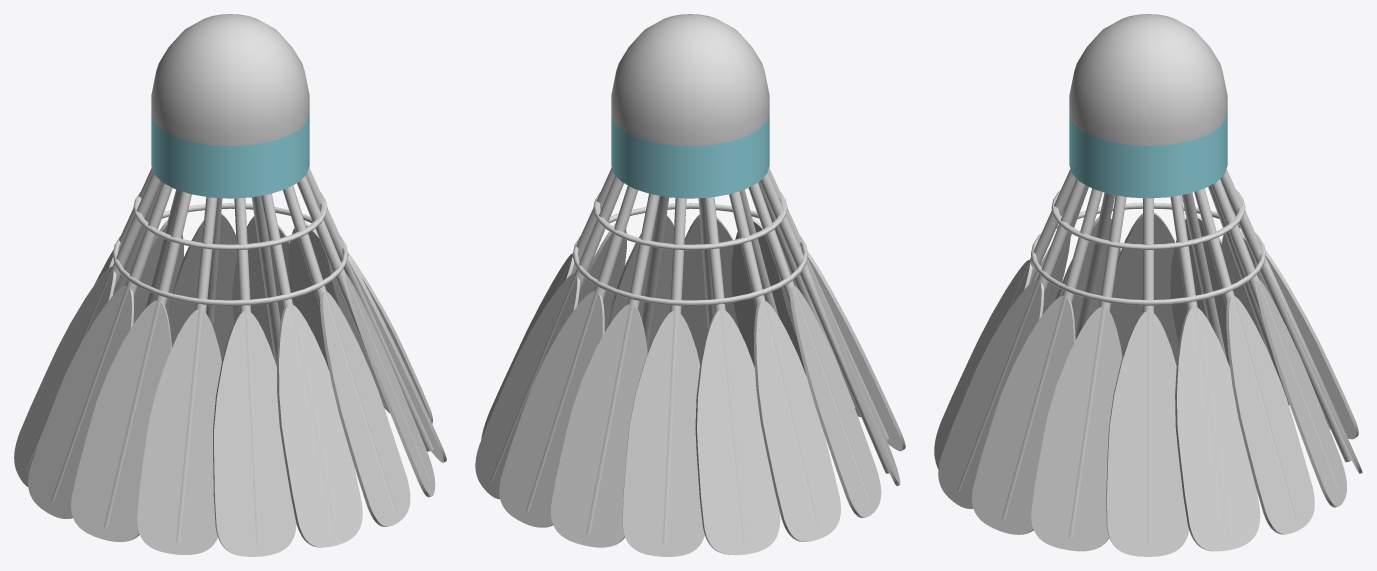
Rendered from badminton.fbx.
The picture shows the model from 3 angles, left to right: view 1: azimuth 30°, elevation 25°; view 2: azimuth 150°, elevation 25°; view 3: azimuth 270°, elevation 25°; orthographic projection.
Parts seen in each view (by area): view 1: badminton; view 2: badminton; view 3: badminton.
Boxes of the visible parts, x1=… form: badminton: x1=14, y1=14, x2=446, y2=556; badminton: x1=475, y1=14, x2=905, y2=556; badminton: x1=934, y1=14, x2=1362, y2=556.
Size of the model in its own units: 385 by 444 by 385.
